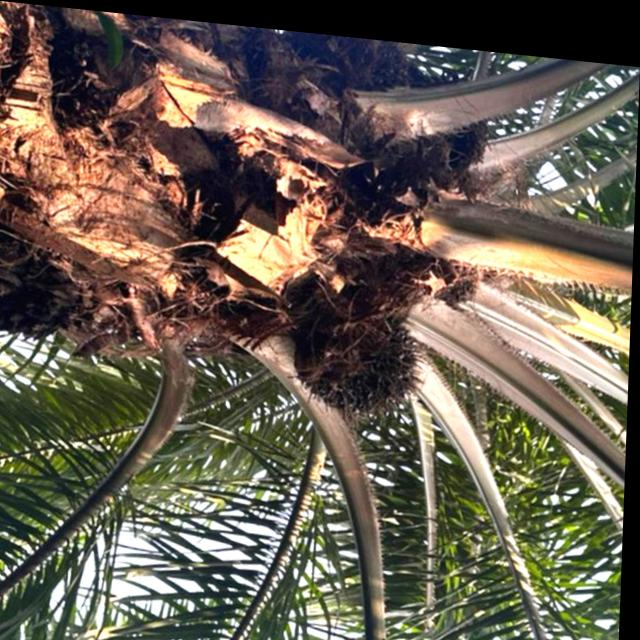unripe: (287, 285, 425, 430)
